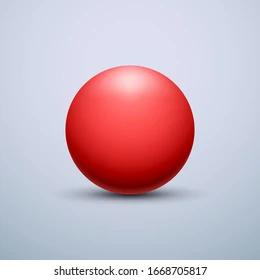red_circle: (58, 59, 201, 201)
